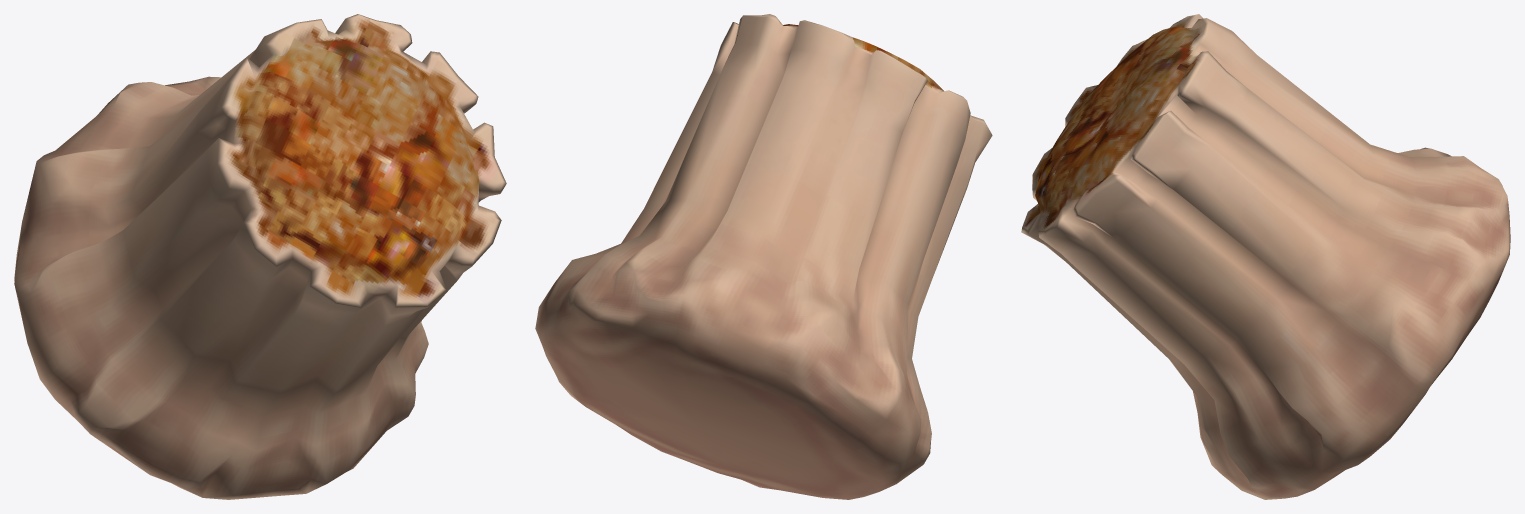
The model's file is ref_bfshaomai.fbx.
The picture shows the model from 3 angles, left to right: view 1: azimuth 30°, elevation 25°; view 2: azimuth 150°, elevation 25°; view 3: azimuth 270°, elevation 25°; orthographic projection. The views are drawn at different scales.
Visible parts, largest first — view 1: ref_bfshaomai; view 2: ref_bfshaomai; view 3: ref_bfshaomai.
Part boxes in pixels (bbox=[...]): ref_bfshaomai: bbox=[14, 14, 506, 499]; ref_bfshaomai: bbox=[535, 14, 992, 499]; ref_bfshaomai: bbox=[1021, 14, 1510, 499].
Bounding box in the file's own units: 82.89 × 100 × 99.53.
Materials: 1 (1 with a texture image).
